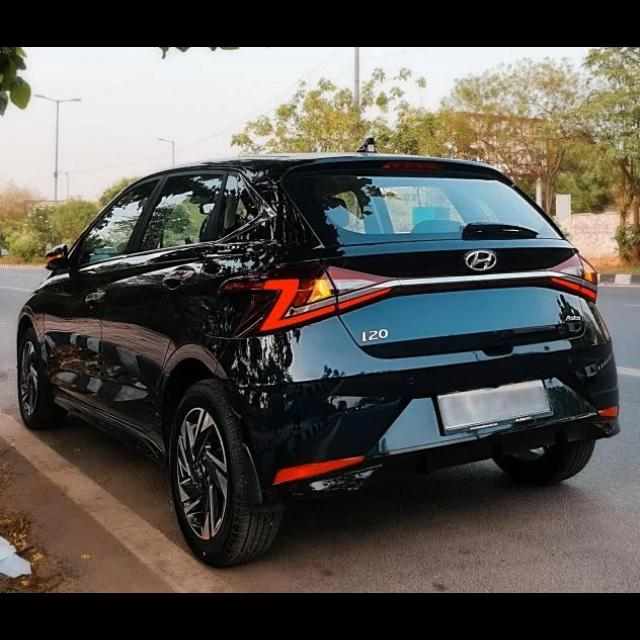number-plate: (434, 378, 556, 433)
vehicles: (7, 152, 617, 570)
